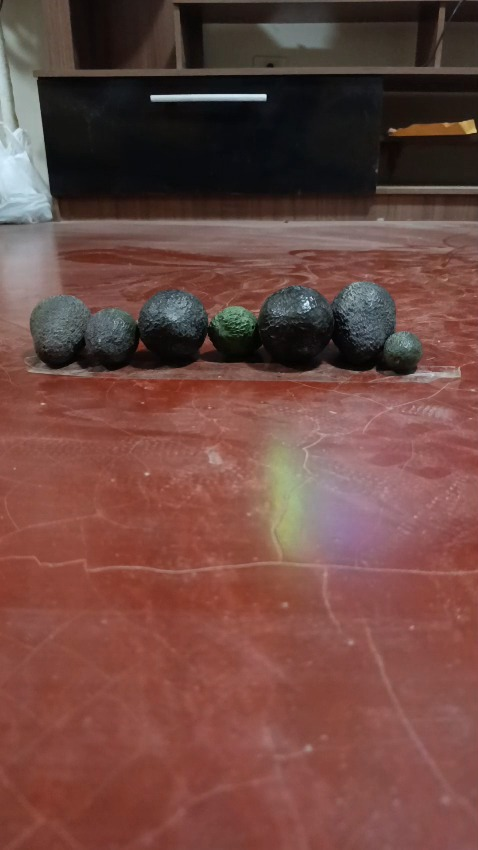Primera: (257, 284, 335, 366), (330, 279, 397, 368), (137, 289, 208, 361), (29, 293, 91, 369)
Segunda: (83, 307, 139, 370), (209, 305, 261, 358)
Tercera: (380, 331, 423, 374)
